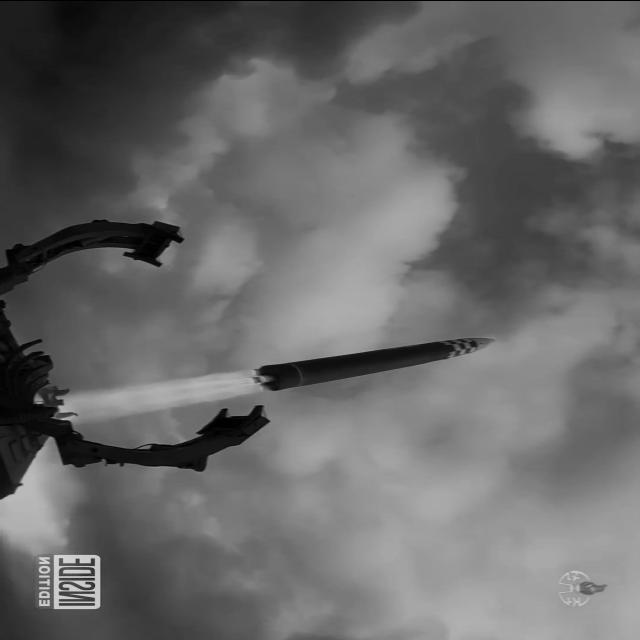missile: (247, 328, 525, 398)
